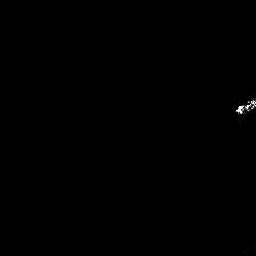ship: (233, 96, 256, 118)
